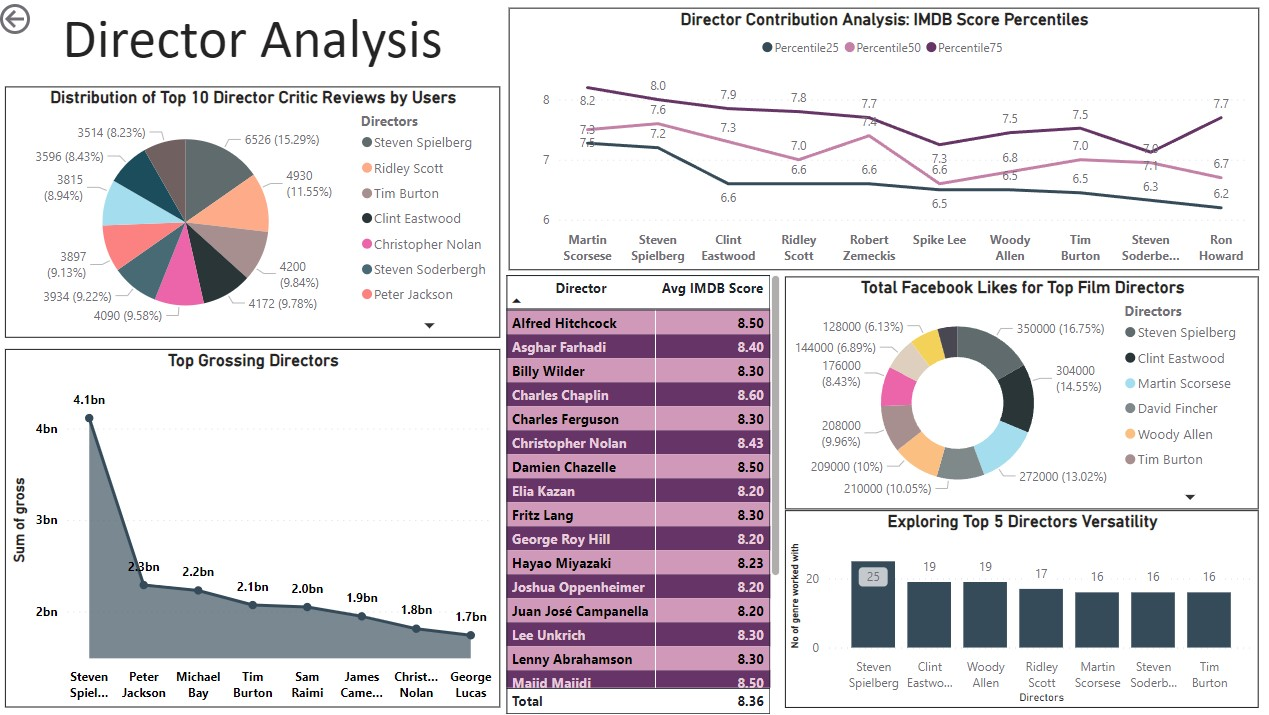

What the dashboard file says about the page in this screenshot:
{"tool":"powerbi","page":{"name":"Director Analysis","canvas":[1280,720],"ordinal":2},"visuals":[{"type":"textbox","box":[10,0,495,87.5],"z":0},{"type":"tableEx","fields":{"Values":["IMDB_Movies.director_name","IMDB_Movies.AverageIMDBScorePerDirector"]},"box":[505,271.2,285,448.8],"z":1000},{"type":"lineChart","title":"Director Contribution Analysis: IMDB Score Percentiles","fields":{"Y":["IMDB_Movies.Percentile25","IMDB_Movies.Percentile50","IMDB_Movies.Percentile75"],"Category":["IMDB_Movies.director_name"]},"box":[513.8,8.8,750,262.5],"z":2000},{"type":"pieChart","title":"Distribution of Top 10 Director Critic Reviews by Users","fields":{"Y":["IMDB_Movies.num_critic_for_reviews"],"Category":["IMDB_Movies.director_name"]},"box":[10,87.5,495,251.2],"z":3000},{"type":"donutChart","title":"Total Facebook Likes for Top Film Directors","fields":{"Category":["IMDB_Movies.director_name"],"Y":["IMDB_Movies.director_facebook_likes"]},"box":[790,277.5,473.8,232.5],"z":4000},{"type":"areaChart","title":"Top Grossing Directors","fields":{"Category":["IMDB_Movies.director_name"],"Y":["IMDB_Movies.gross"]},"box":[10,350,495,358.8],"z":5000},{"type":"lineStackedColumnComboChart","title":"Exploring Top 5 Directors Versatility","fields":{"Y":["IMDB_Movies.genres.1"],"Category":["IMDB_Movies.director_name"]},"box":[790,511.2,473.8,197.5],"z":6000},{"type":"actionButton","box":[0,0,100,40],"z":7000}]}

Visuals, with their boxes in screenshot pixels (x1, y1, x2, y2), scaled from the page's 1280x720 canvas onto the 1269x715 screenshot:
textbox: x1=10 y1=0 x2=501 y2=87
tableEx - IMDB_Movies.director_name x IMDB_Movies.AverageIMDBScorePerDirector: x1=501 y1=269 x2=783 y2=714
"Director Contribution Analysis: IMDB Score Percentiles" lineChart: x1=509 y1=9 x2=1253 y2=269
"Distribution of Top 10 Director Critic Reviews by Users" pieChart: x1=10 y1=87 x2=501 y2=336
"Total Facebook Likes for Top Film Directors" donutChart: x1=783 y1=276 x2=1253 y2=506
"Top Grossing Directors" areaChart: x1=10 y1=348 x2=501 y2=704
"Exploring Top 5 Directors Versatility" lineStackedColumnComboChart: x1=783 y1=508 x2=1253 y2=704
actionButton: x1=0 y1=0 x2=99 y2=40
